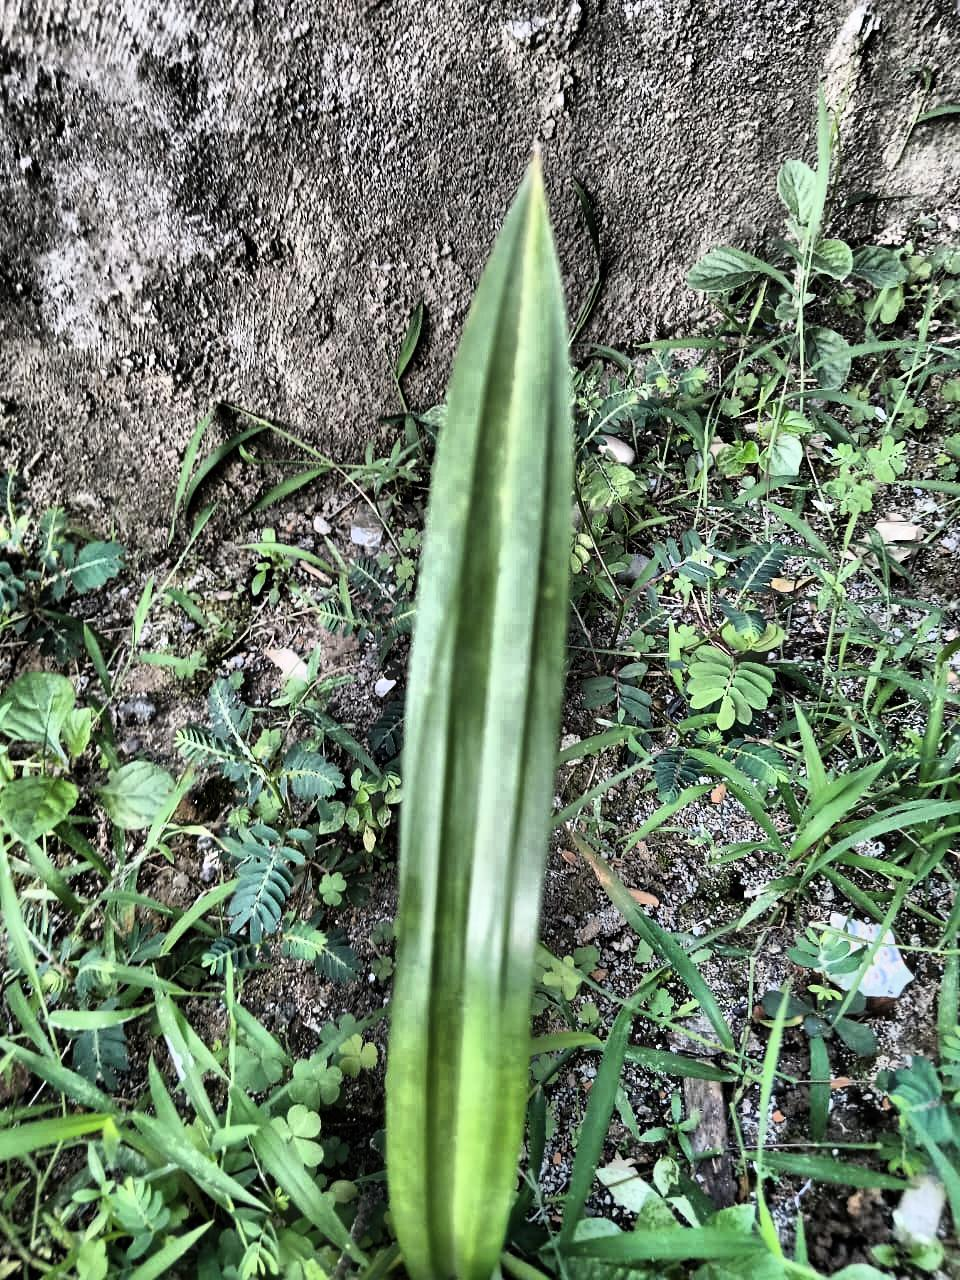daun pandan: (387, 160, 572, 1279)
